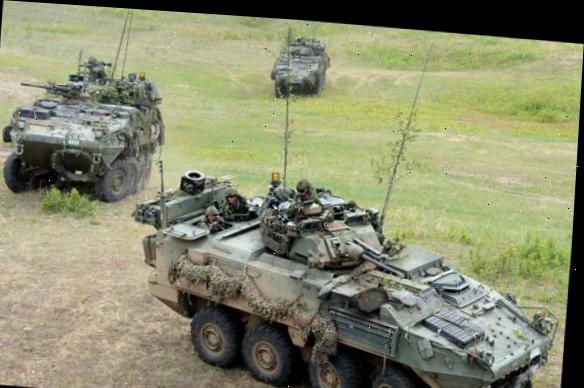armored_car: (116, 159, 569, 388), (0, 39, 172, 213), (267, 34, 332, 102)
